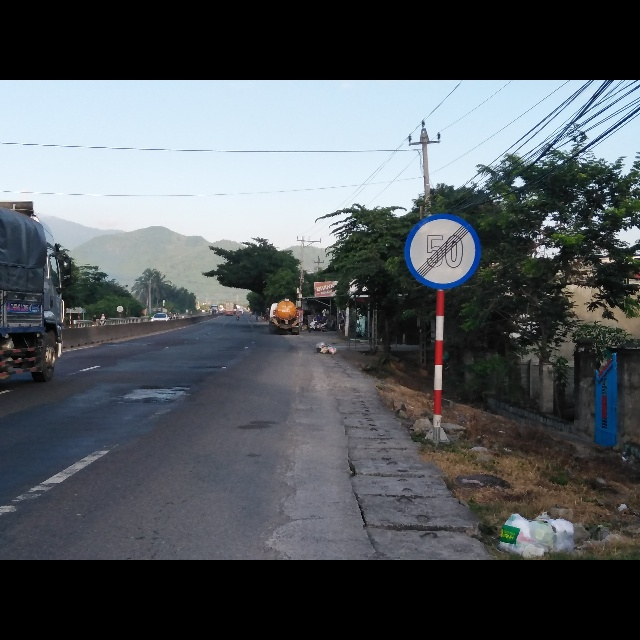Hết hạn chế tốc độ tối đa 50km/h: (403, 212, 482, 291)
